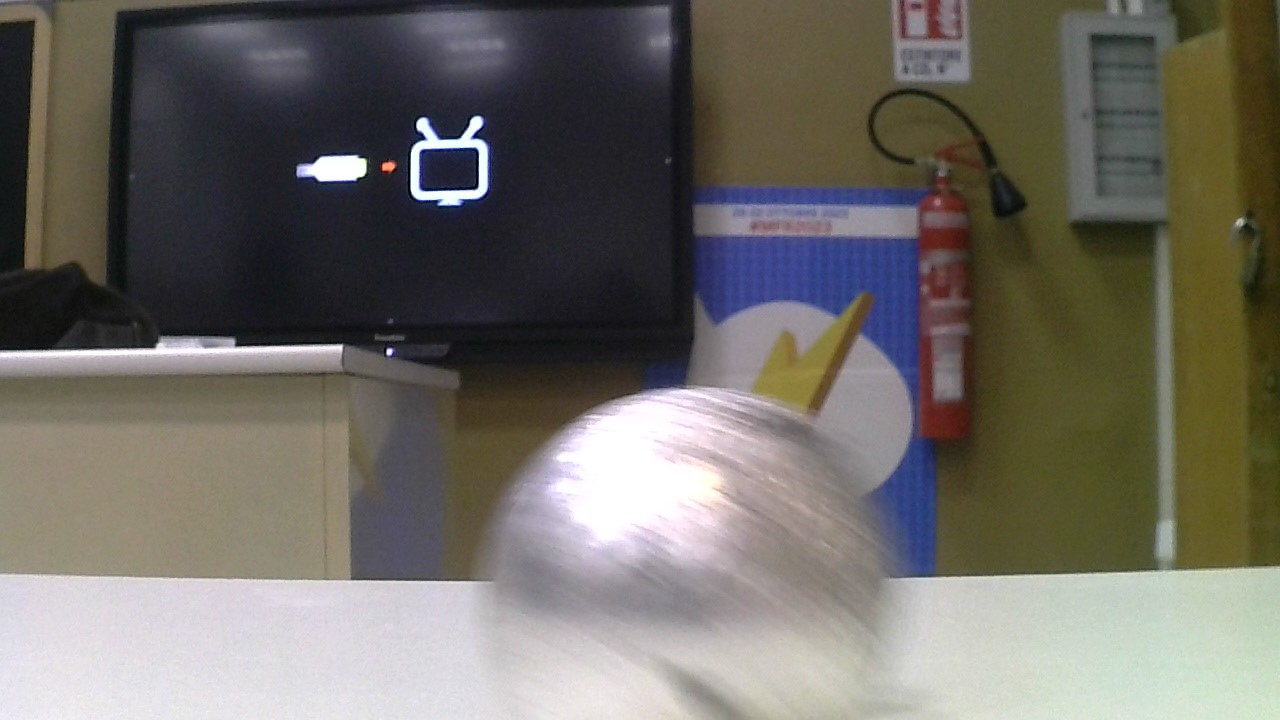silver_ball: (465, 385, 894, 720)
